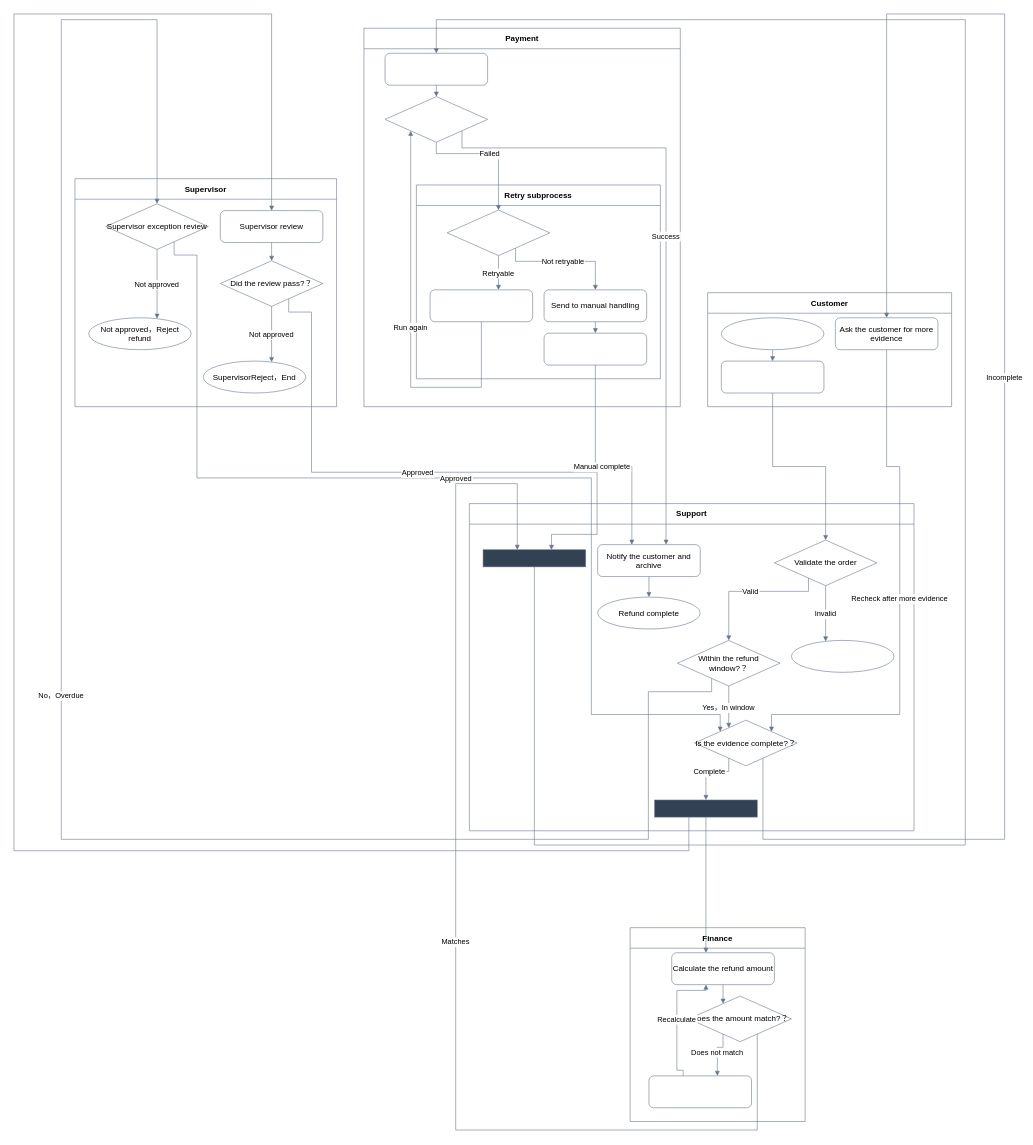
Image size: 1033x1145. Some labels were removed from this diagram. The box of each missing label's shape, as (x1, y1, x2, y2) in pixels:
Both passed: (483, 549, 586, 567)
Can it be retried?？: (447, 209, 550, 256)
Correct and recalculate: (648, 1075, 752, 1108)
Customer submits a refund request: (721, 361, 824, 393)
Did the refund succeed?？: (384, 96, 488, 142)
Execute refund: (384, 53, 488, 85)
Manual handling complete: (543, 333, 647, 365)
Reject refund: (791, 640, 894, 672)
Retry refund: (429, 289, 533, 322)
Start: (721, 317, 824, 350)
